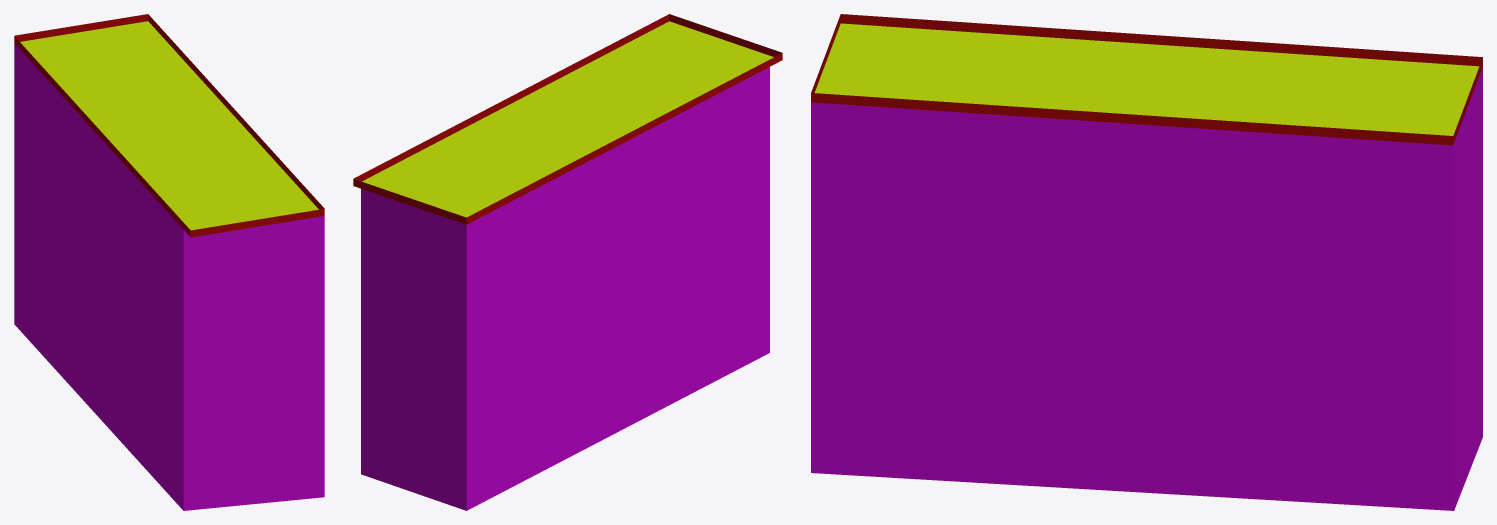
File: bgj_383.glb
3 views of the same model, side by side, from view 1: azimuth 30°, elevation 25°; view 2: azimuth 150°, elevation 25°; view 3: azimuth 270°, elevation 25° (orthographic). The views are drawn at different scales.
Parts seen in each view (by area): view 1: bgj_383; view 2: bgj_383; view 3: bgj_383.
Boxes of the visible parts, <box> form: bgj_383: <box>14,14,324,510</box>; bgj_383: <box>353,14,782,510</box>; bgj_383: <box>811,14,1482,510</box>.
Bounding box in the file's own units: 9.72 × 14.11 × 22.61.
